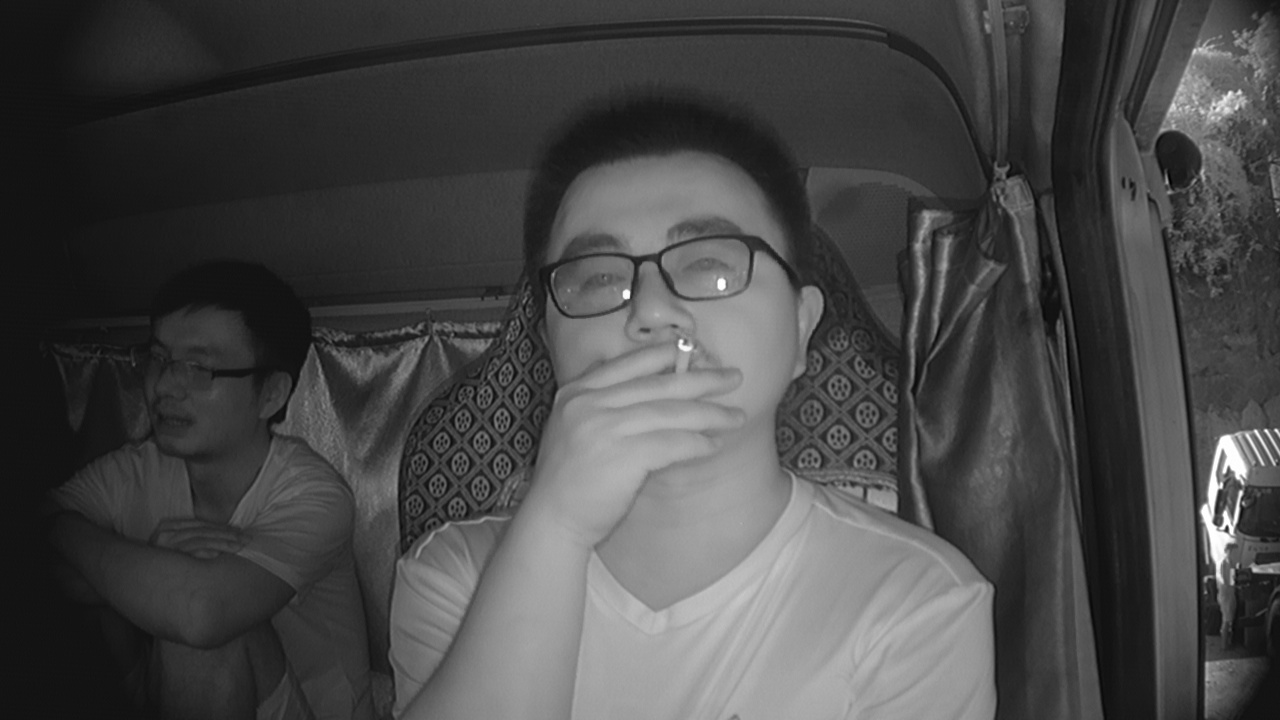hand: (591, 330, 736, 481)
